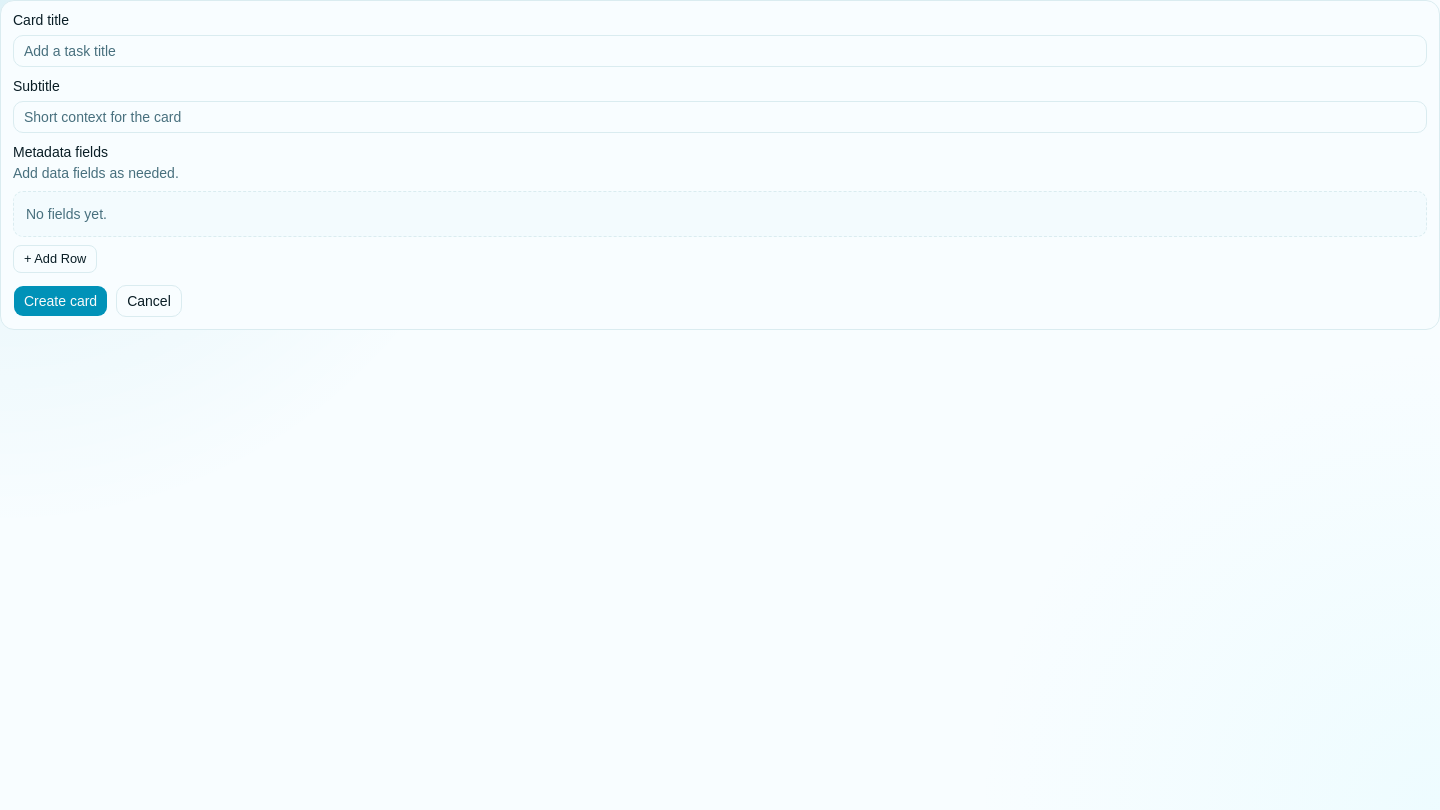
Test: CardCreateForm › validates required fields and metadata field names
Click the button "Create card" at coordinates (61, 301), box [13,285,108,317]
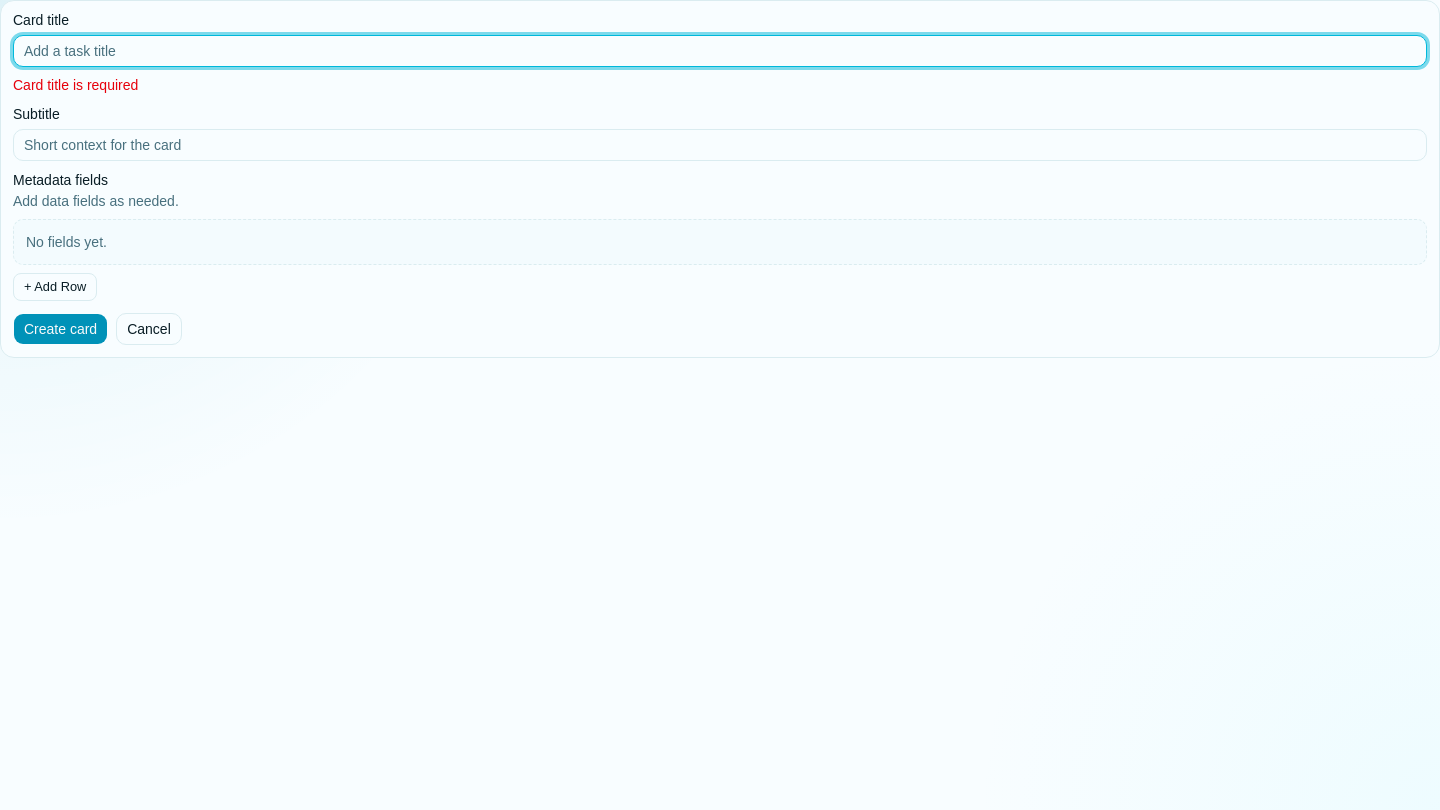
Now the text "Card title is required" is shown, box [13,77,138,93]
Type "Ship release" into the field labelled "Card title" at coordinates (720, 51), box [13,35,1427,67]
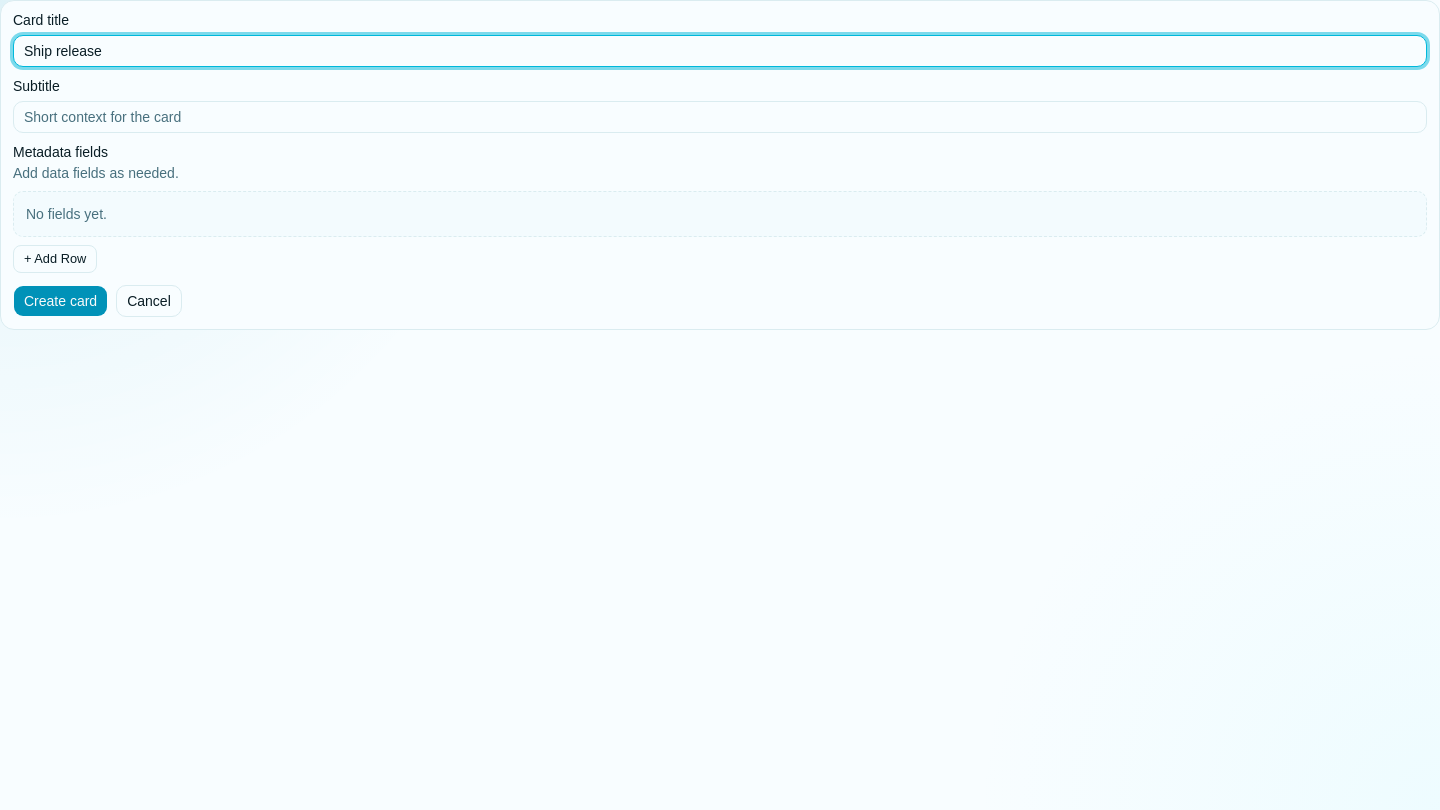
Click the button "+ Add Row" at coordinates (55, 259), box [13,245,97,273]
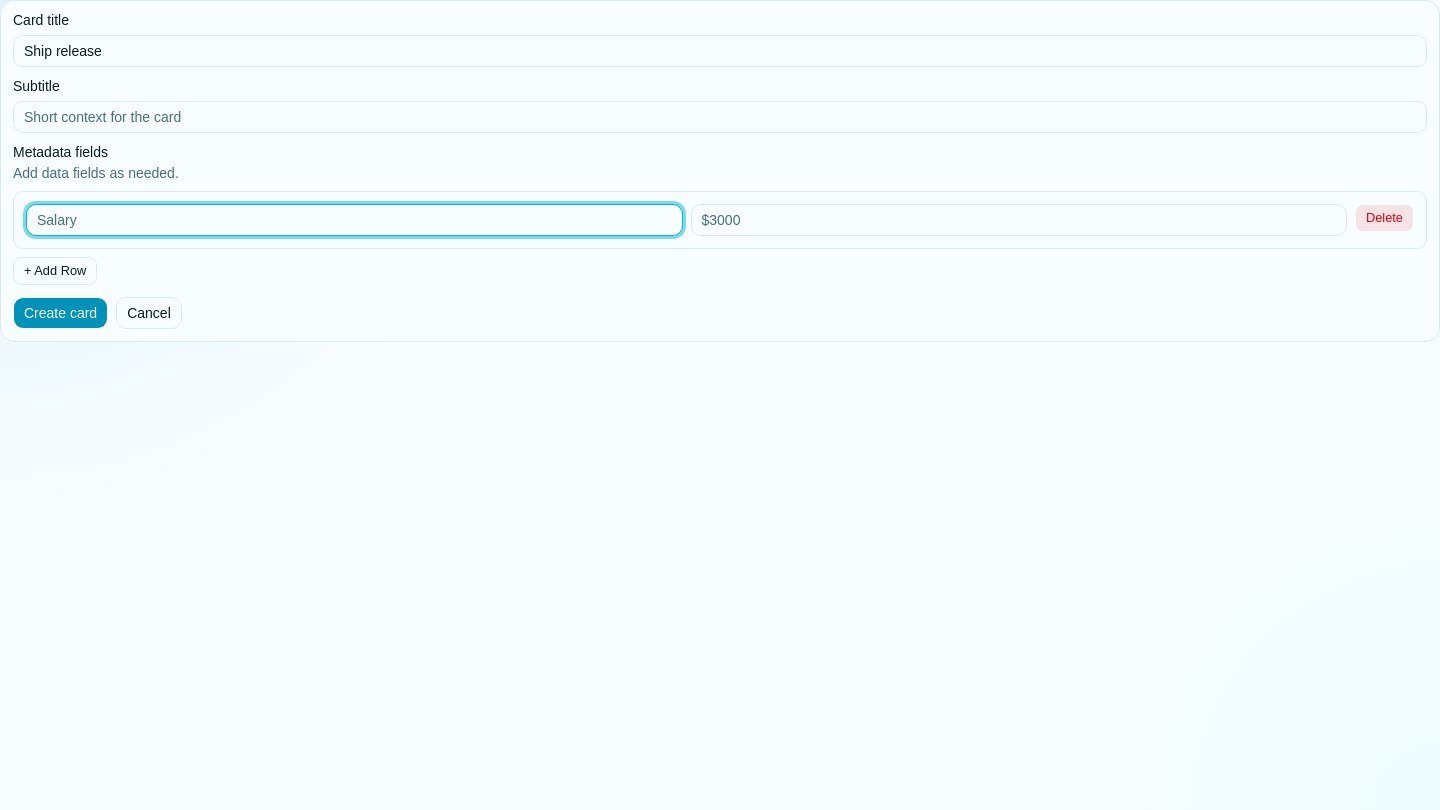
Click the button "Create card" at coordinates (61, 313), box [13,297,108,329]
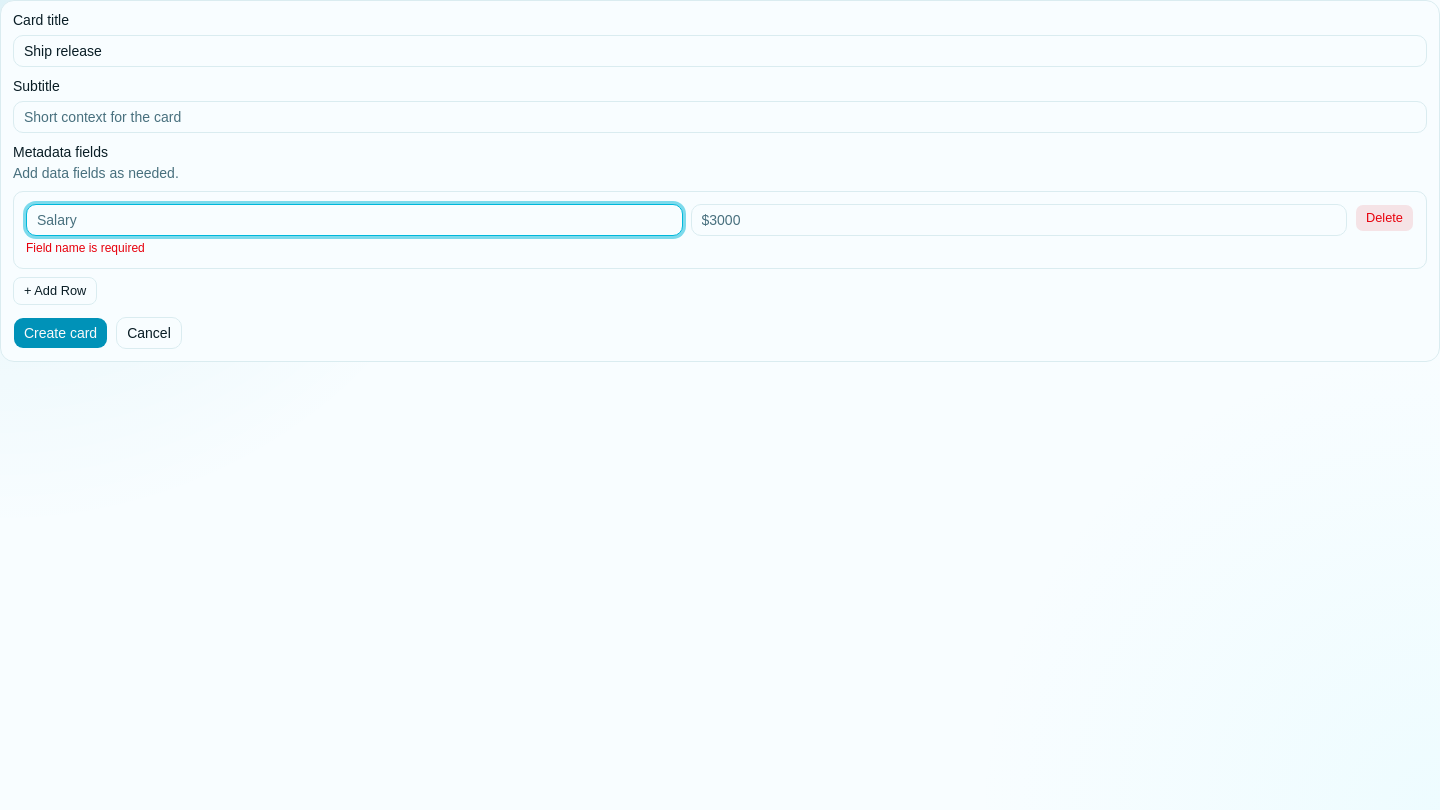
Now the text "Field name is required" is shown, box [26,241,145,255]
